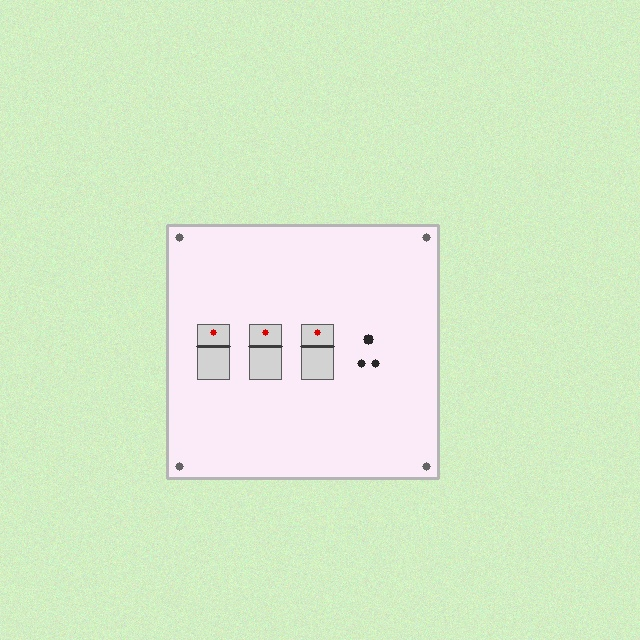switchboard: (167, 225, 438, 478)
